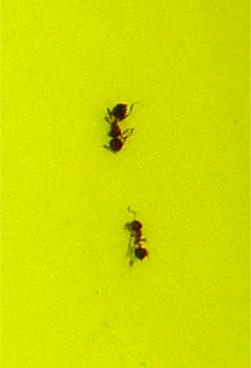Hymenoptera: (100, 100, 135, 156), (121, 216, 151, 268)
